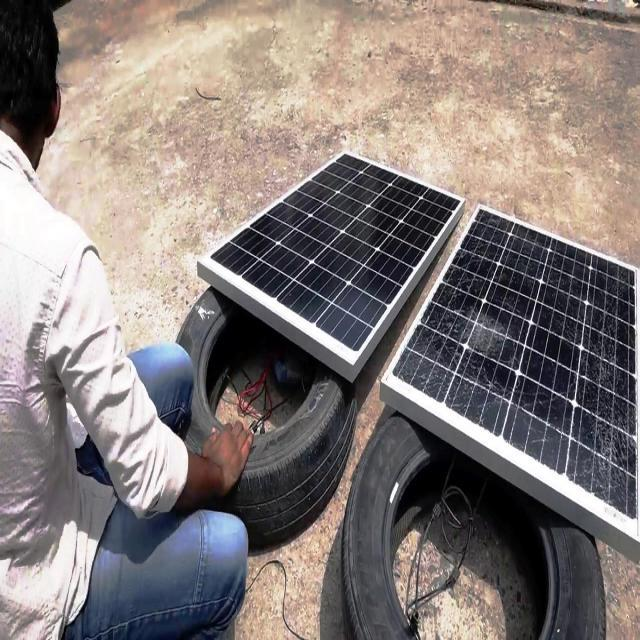faulty: (390, 196, 640, 543)
no faulty: (211, 141, 464, 369)
